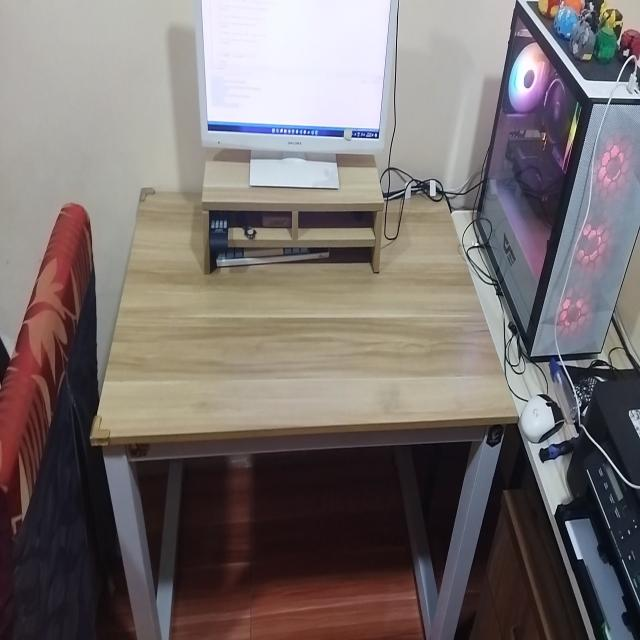table: (95, 178, 516, 640)
